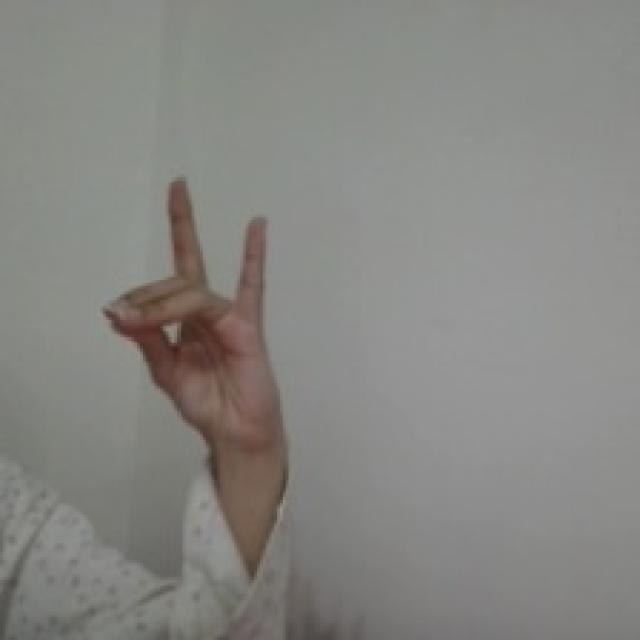Dog: (96, 169, 291, 459)
